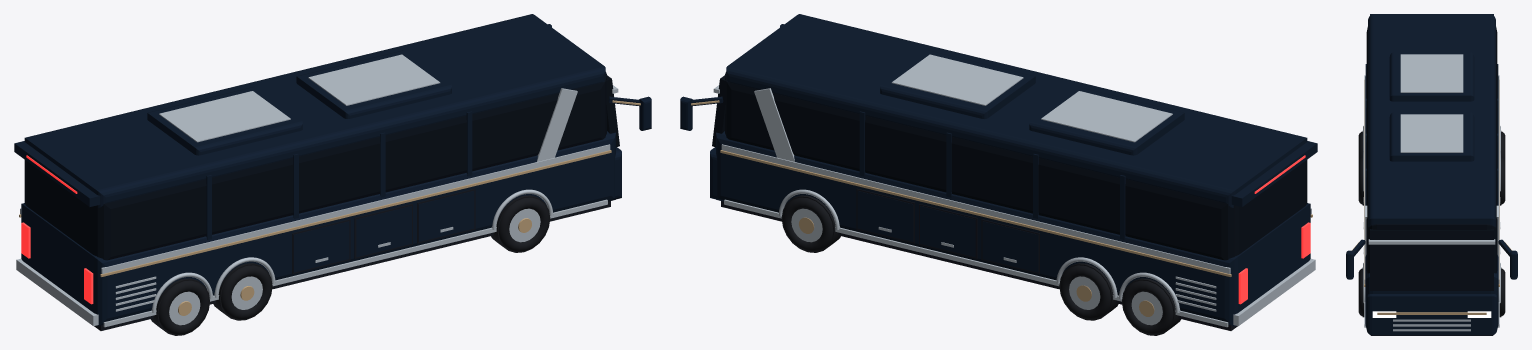
Rendered from vanguard_xii_coach.glb.
The picture shows the model from 3 angles, left to right: view 1: azimuth 30°, elevation 25°; view 2: azimuth 150°, elevation 25°; view 3: azimuth 270°, elevation 25°; orthographic projection. The views are drawn at different scales.
Parts seen in each view (by area): view 1: GTEX_Vanguard_XII_Coach; view 2: GTEX_Vanguard_XII_Coach; view 3: GTEX_Vanguard_XII_Coach.
Part boxes in pixels (box(x1,y1,x2,y2)): GTEX_Vanguard_XII_Coach: box(14, 14, 651, 335); GTEX_Vanguard_XII_Coach: box(680, 14, 1317, 335); GTEX_Vanguard_XII_Coach: box(1346, 14, 1517, 335).
Size of the model in its own units: 7.91 by 2.31 by 2.6.
